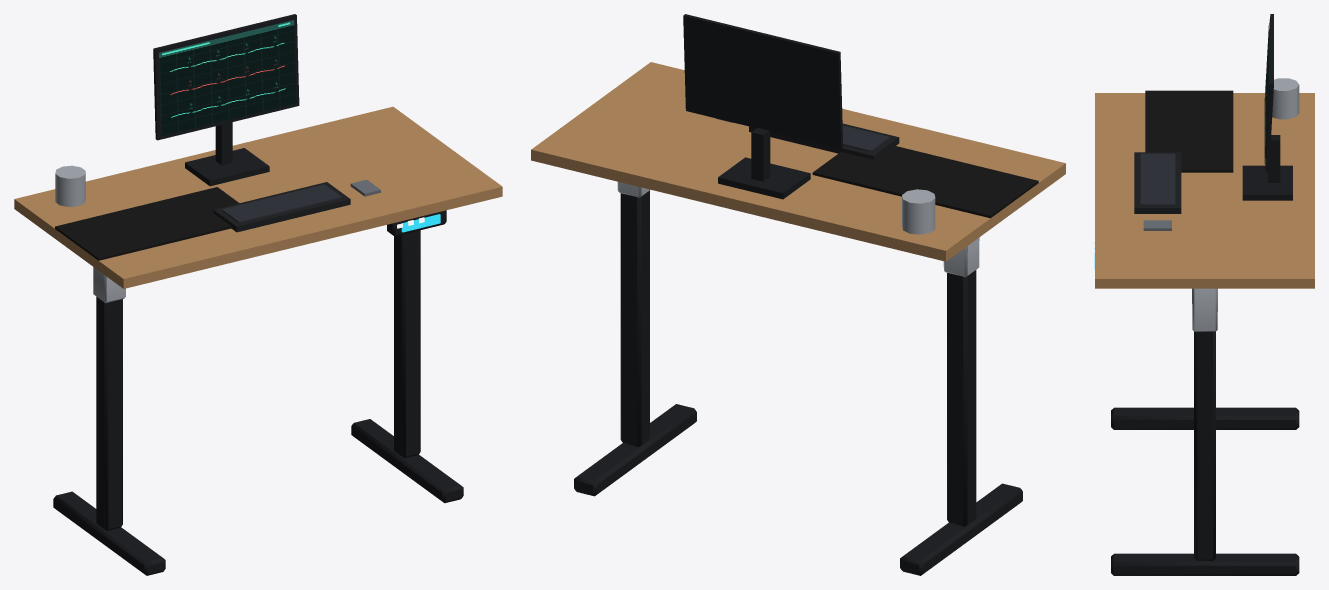
File: desk_standing_desk.glb
3 renders of one model, left to right at view 1: azimuth 30°, elevation 25°; view 2: azimuth 150°, elevation 25°; view 3: azimuth 270°, elevation 25°, orthographic. The views are drawn at different scales.
Parts seen in each view (by area): view 1: desk_standing_desk; view 2: desk_standing_desk; view 3: desk_standing_desk.
Boxes of the visible parts, left/top/right/bottom form: desk_standing_desk: left=14, top=14, right=502, bottom=575; desk_standing_desk: left=531, top=14, right=1065, bottom=575; desk_standing_desk: left=1094, top=14, right=1314, bottom=575.
Size of the model in its own units: 1.4 by 1.58 by 0.7035.
10 materials, 1 textured.
